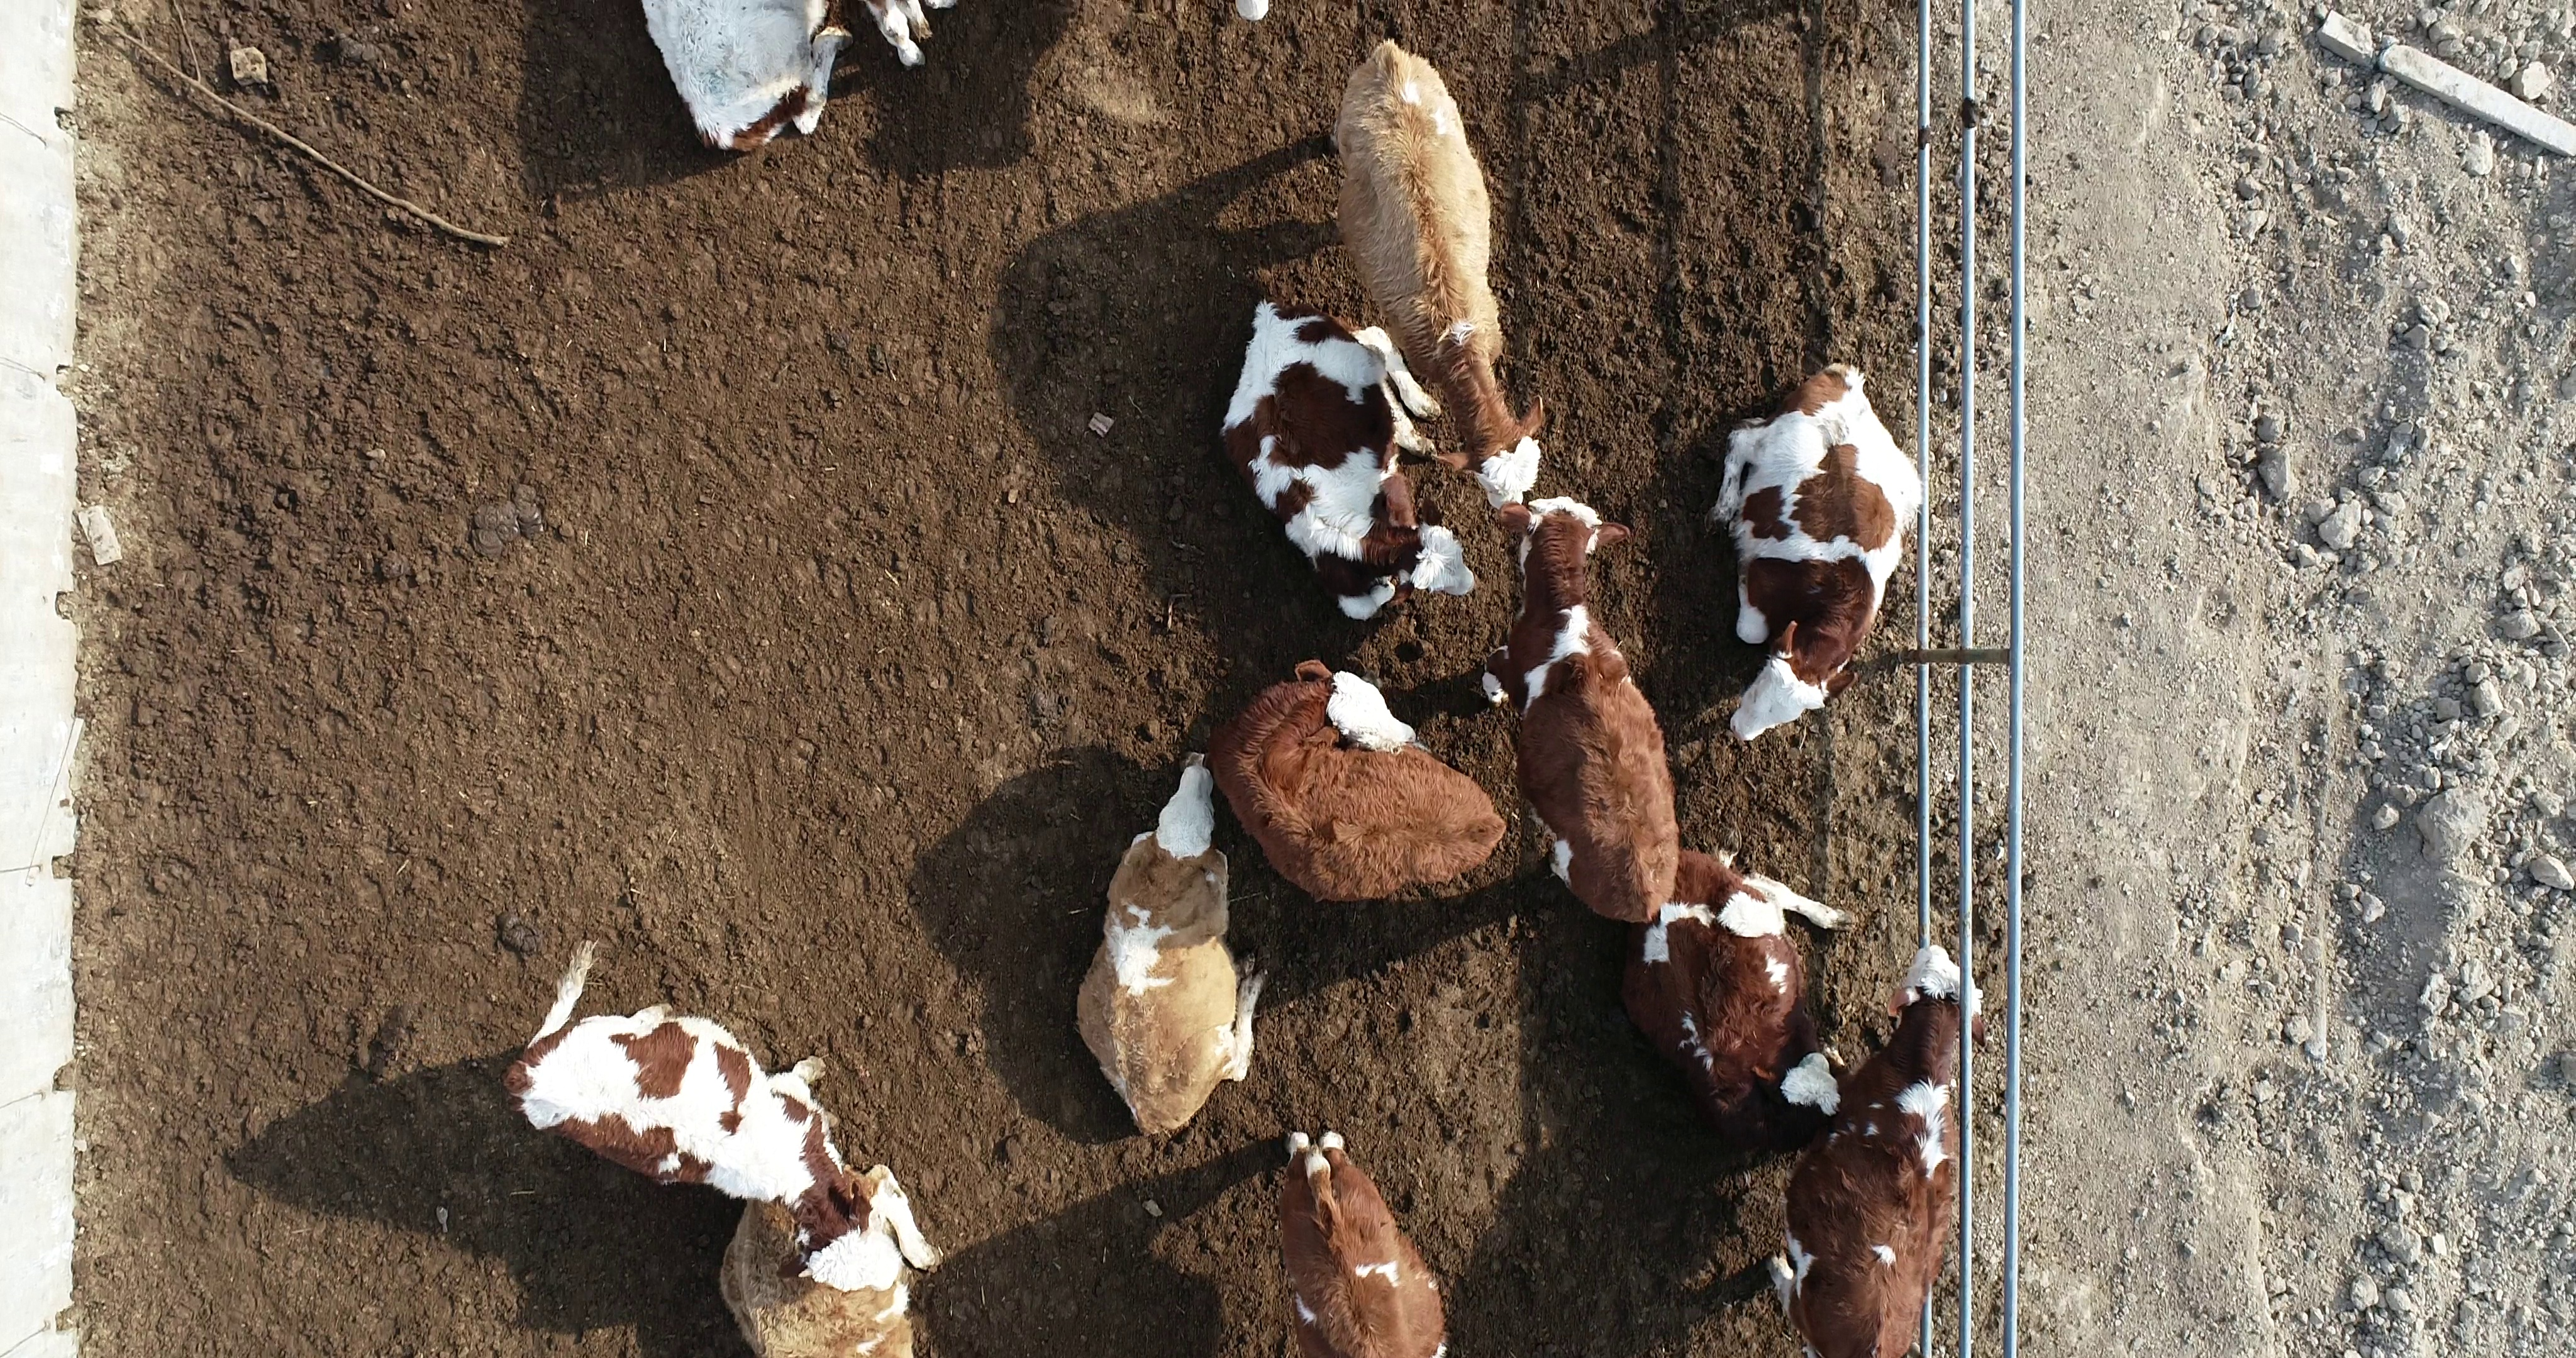cattle: (1331, 34, 1555, 515), (1704, 358, 1935, 750)
